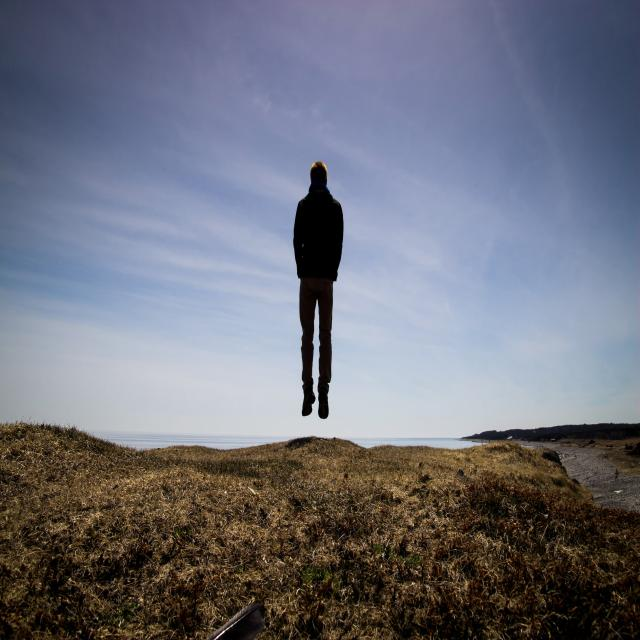adult: (294, 156, 344, 421)
